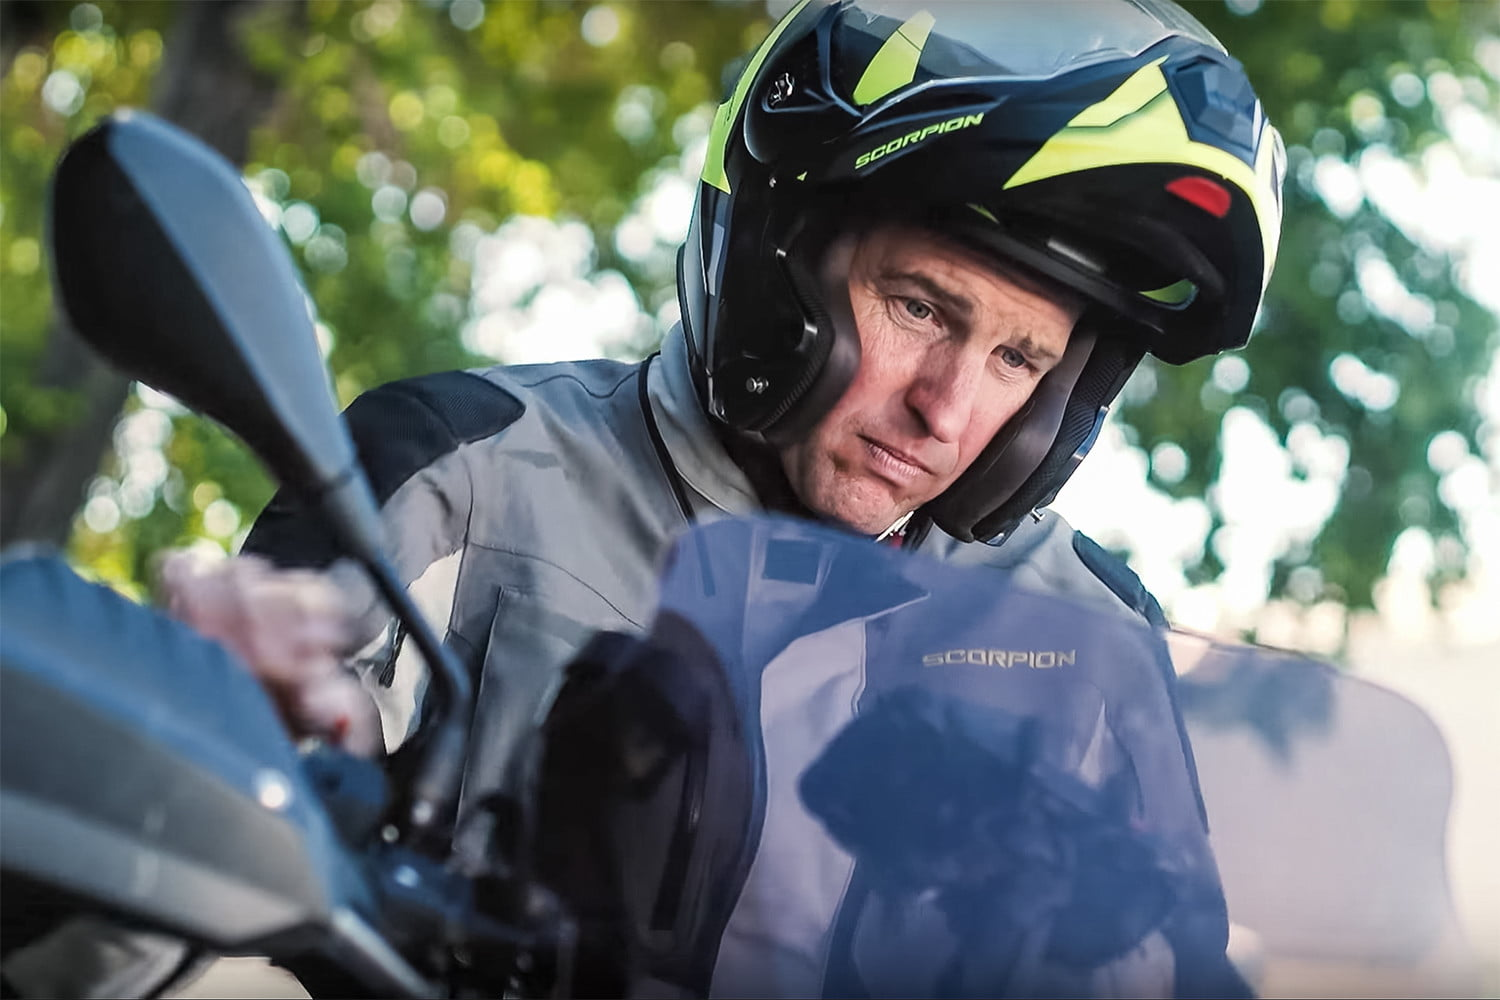with_helmet: (658, 1, 1299, 552)
